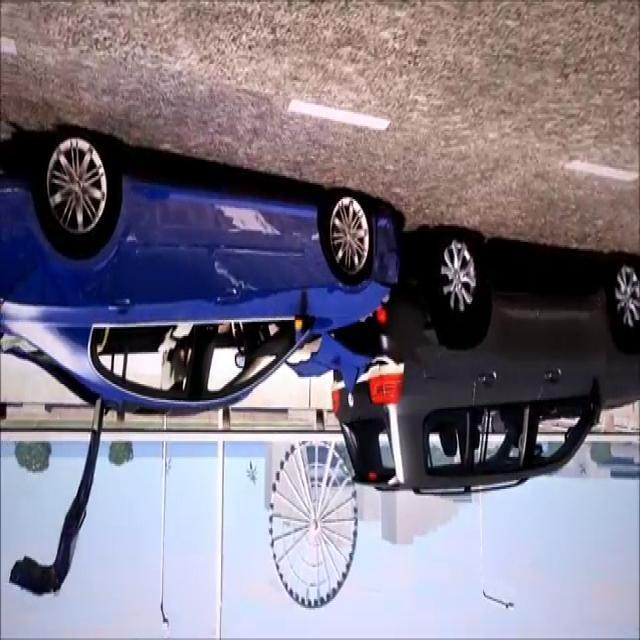moderate: (0, 121, 639, 507)
